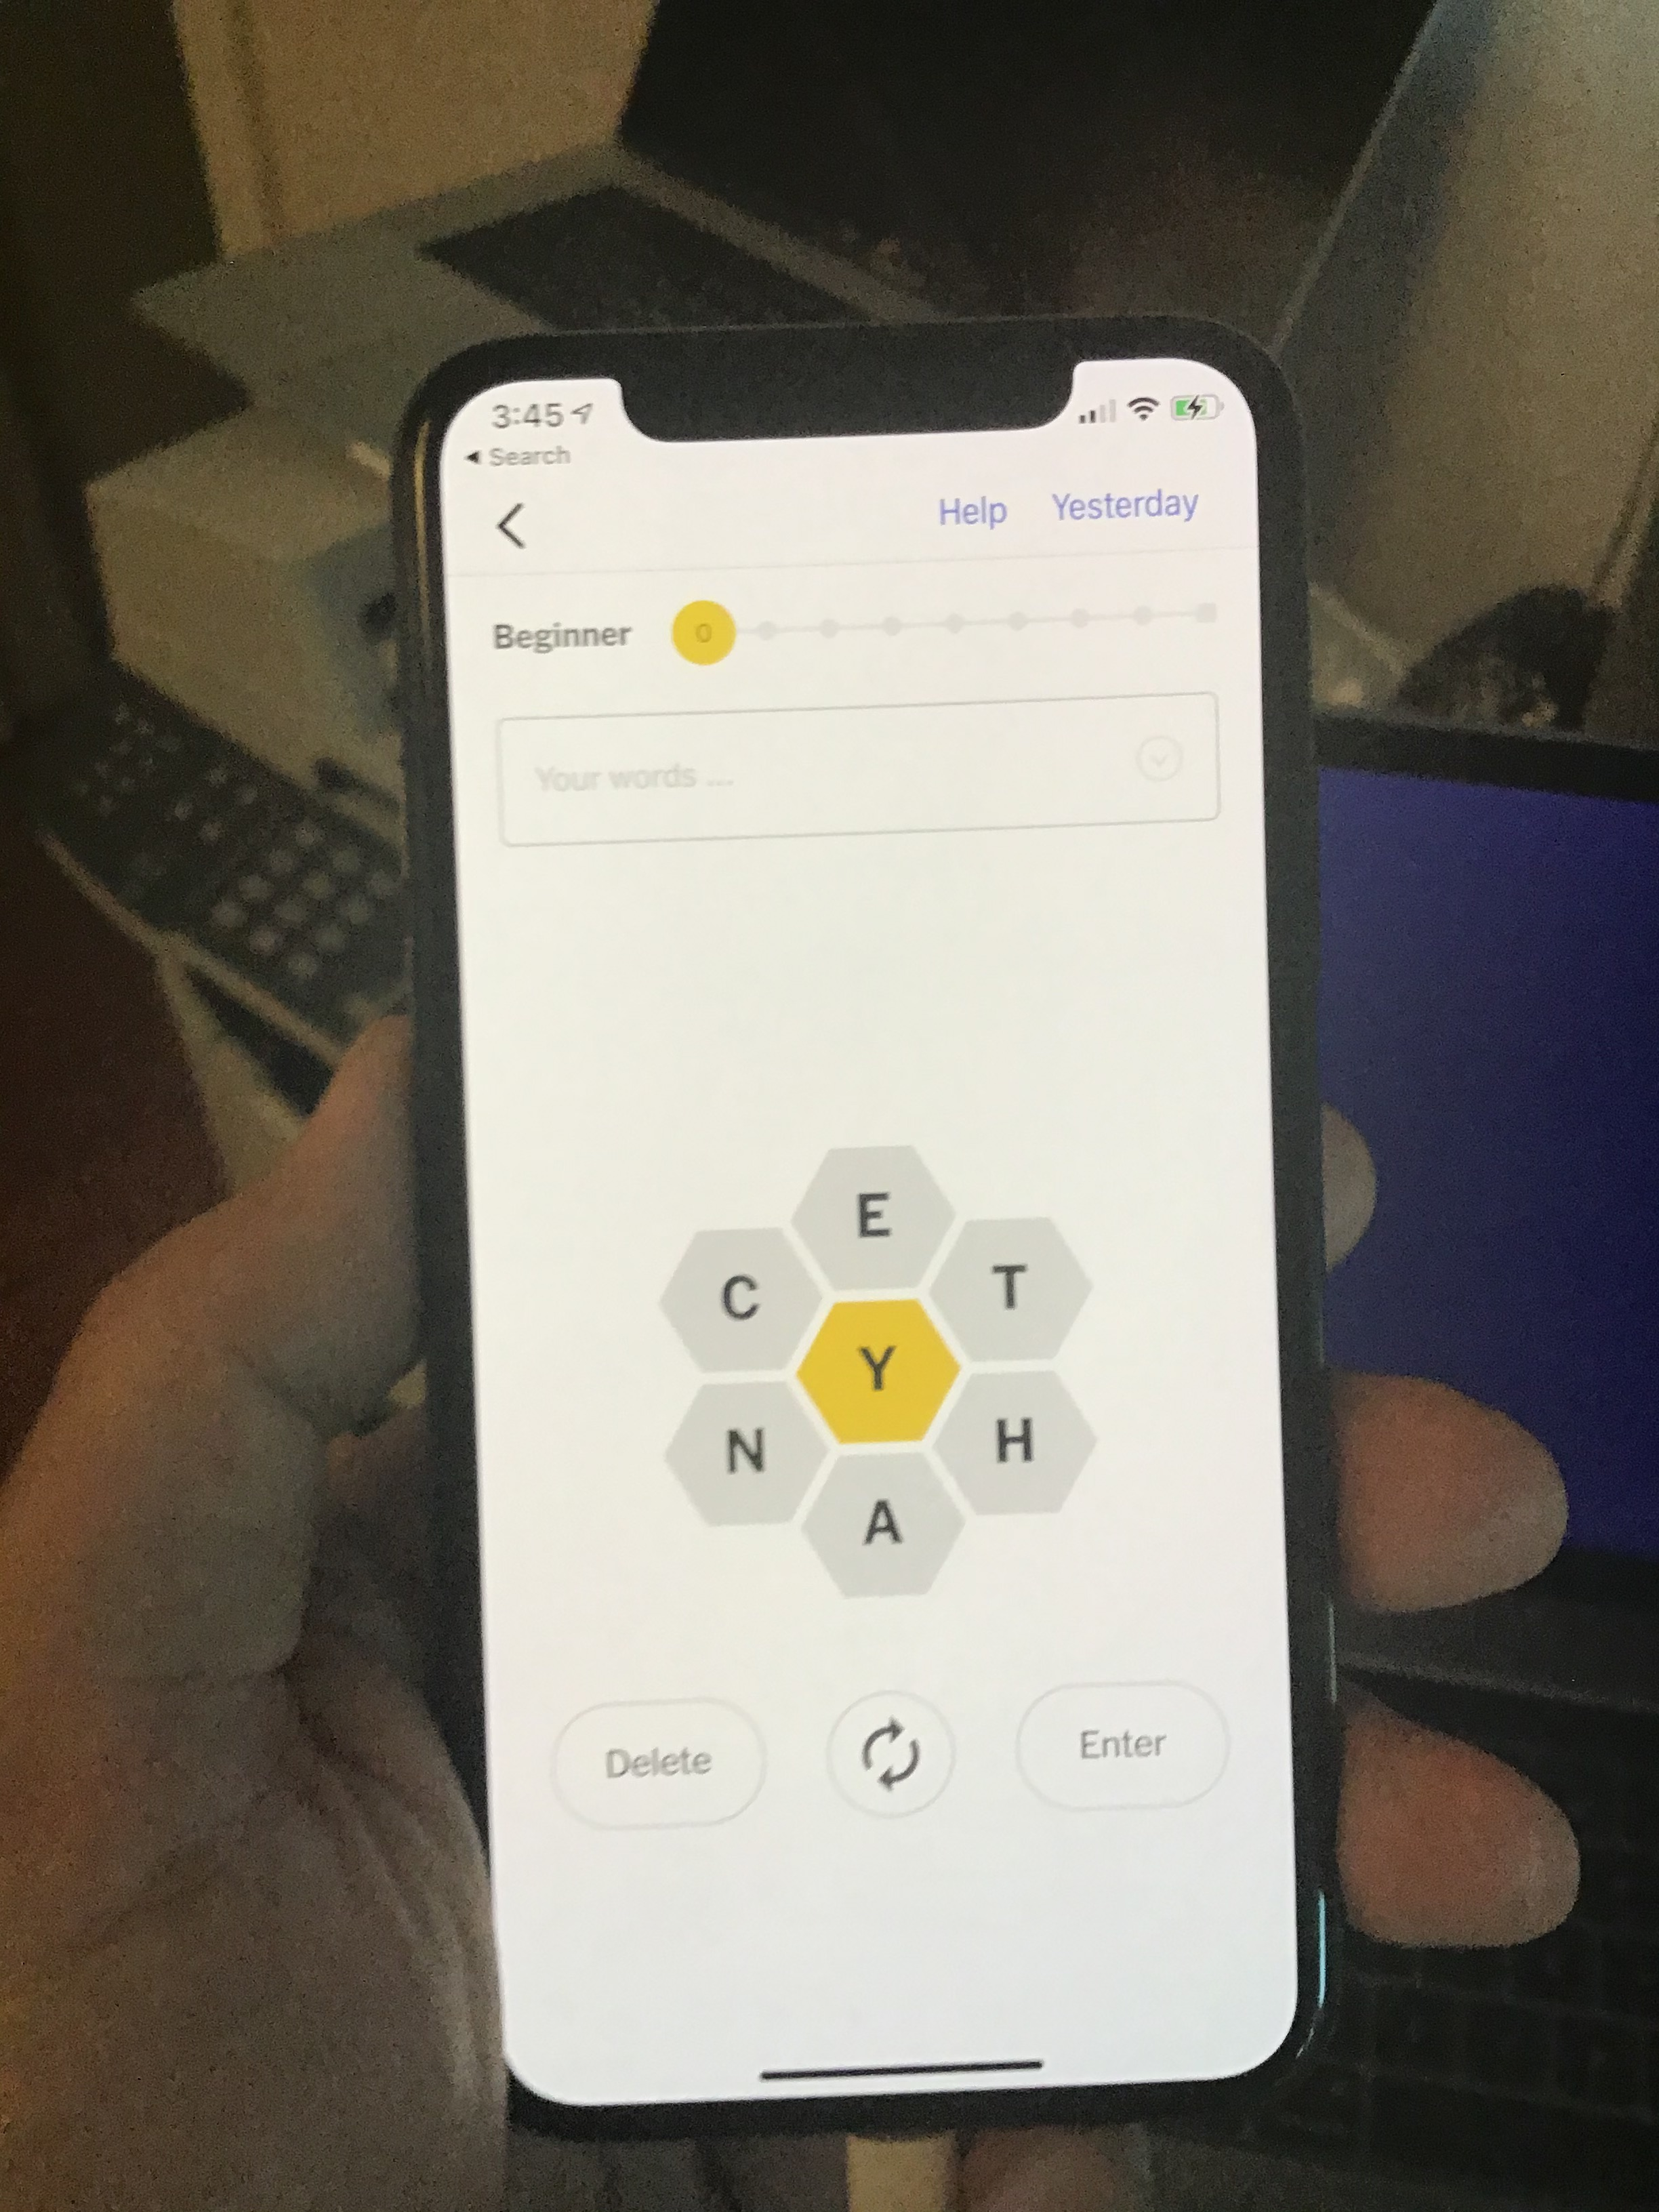Board: (647, 1122, 1143, 1622)
